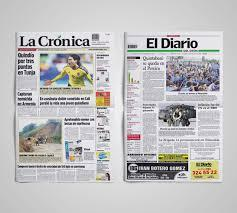Printing industry: (9, 18, 230, 200)
